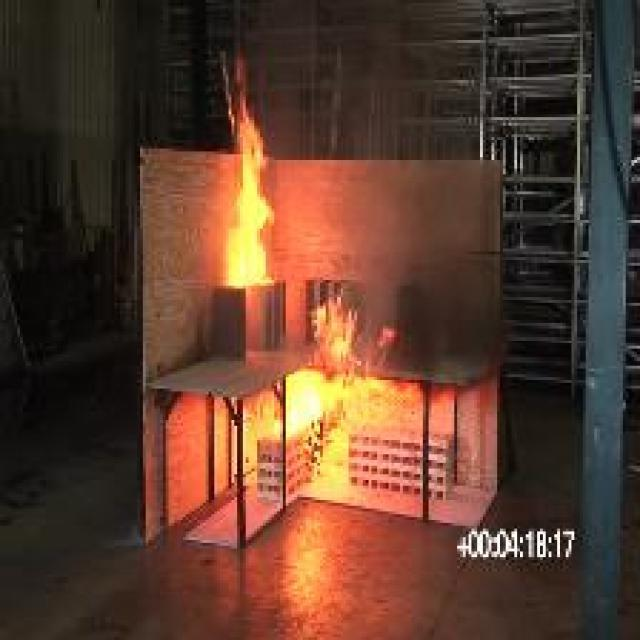Fire: (288, 288, 421, 466), (224, 50, 276, 284)
